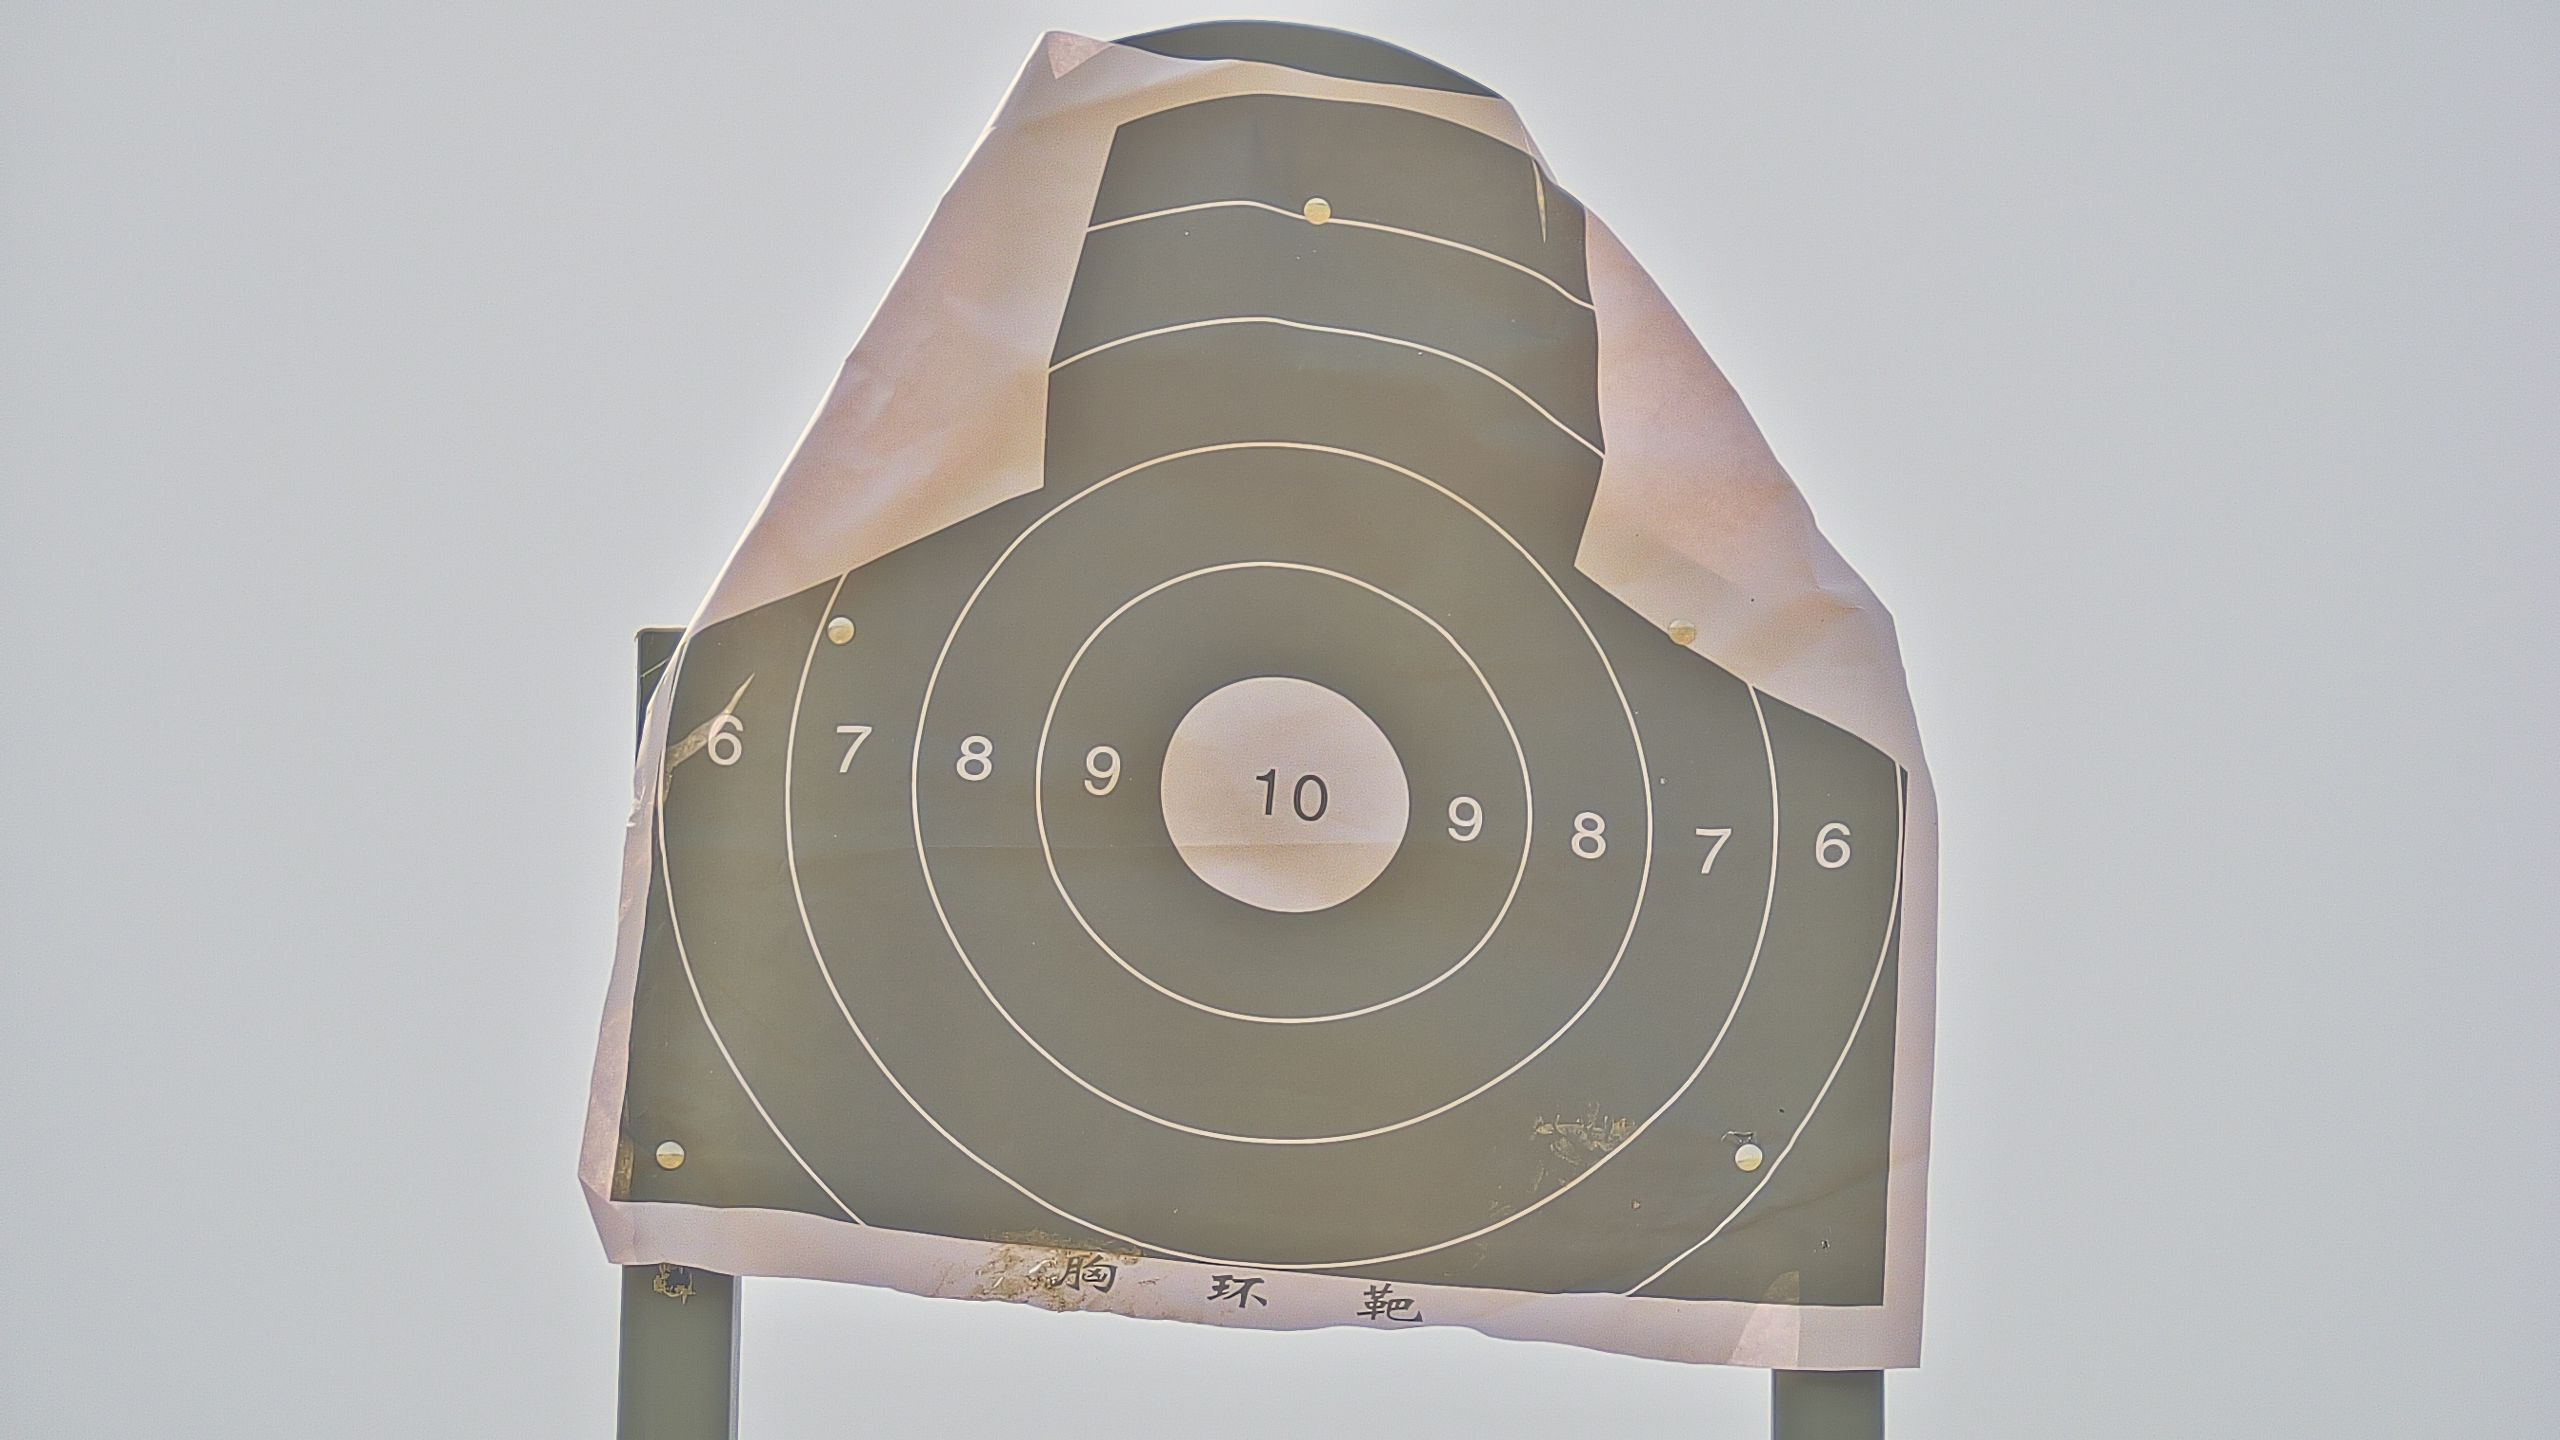kernel: (1278, 793, 1285, 800)
target: (603, 97, 1909, 1336)
ten: (1155, 673, 1408, 918)
